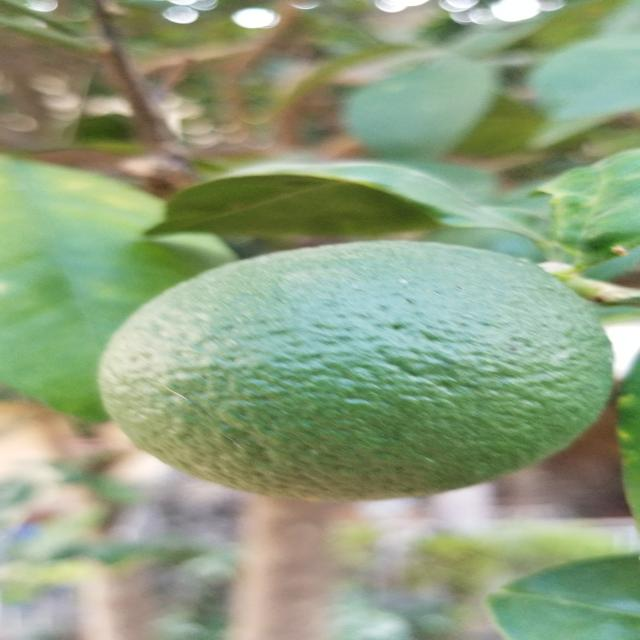Unripe: (75, 238, 621, 505)
